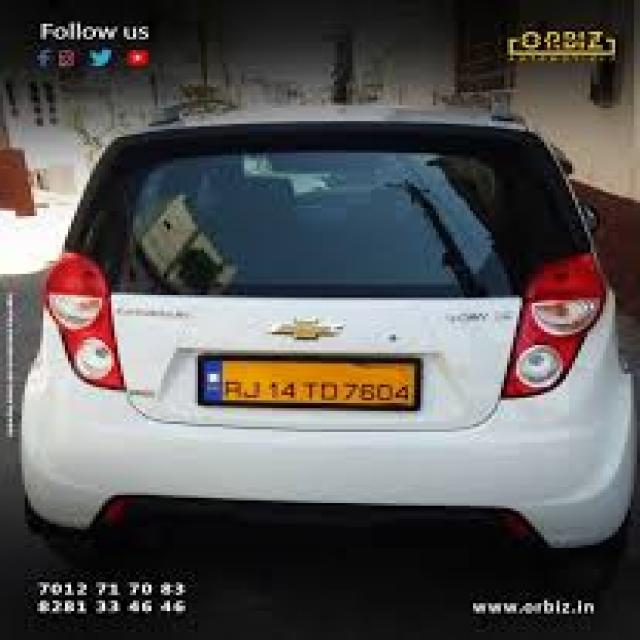Number-Plate: (198, 356, 425, 415)
